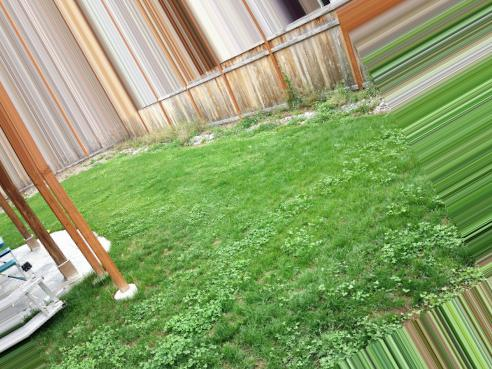patch: (214, 236, 226, 247)
